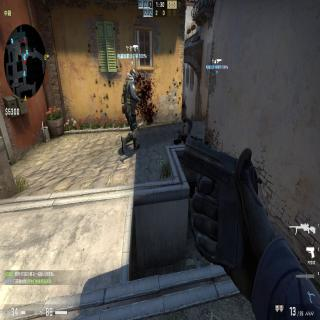CT-Body: (120, 67, 142, 154)
CT-Head: (129, 68, 138, 85)
